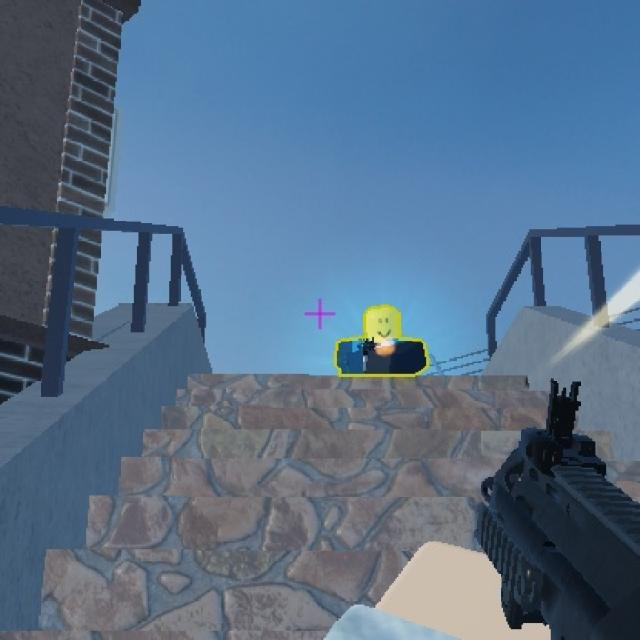player: (335, 299, 419, 385)
